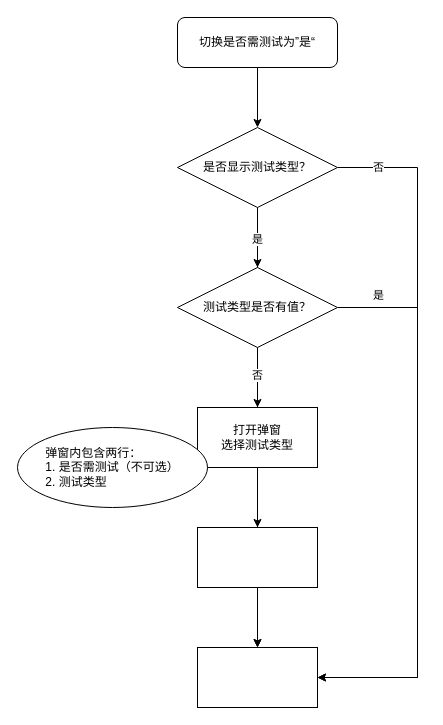
This 443x725 diagram has some shape labels left out. The shapes that lost their labels are listed below. From the top down, each one's centre as x and y in pixels, then its label:
the point at 257,557: 点击保存按钮
the point at 257,677: 调用接口提交修改
